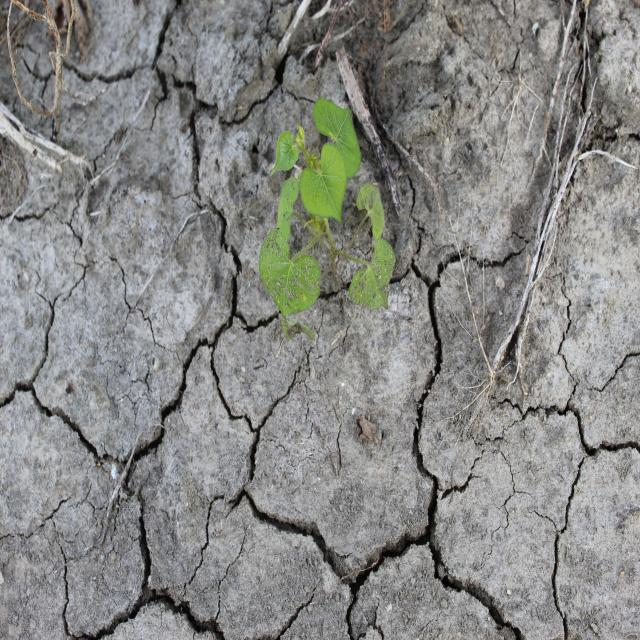MorningGlory: (258, 97, 398, 345)
